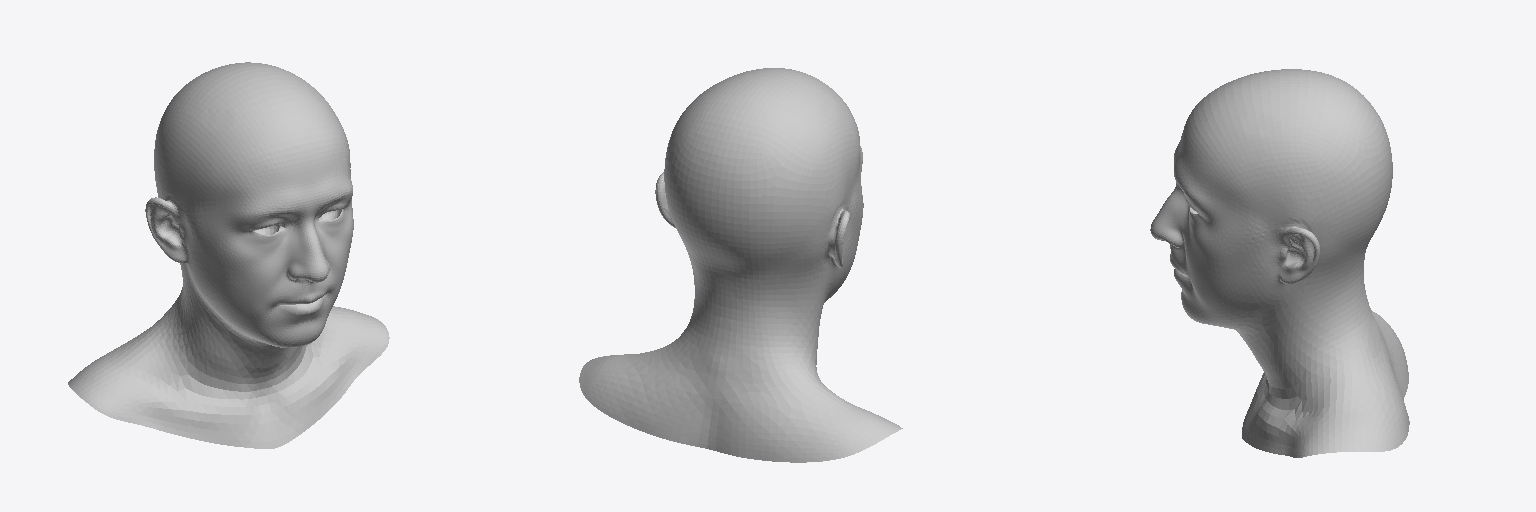
The model's file is 40_no_pose.obj.
3 renders of one model, left to right at view 1: azimuth 30°, elevation 25°; view 2: azimuth 150°, elevation 25°; view 3: azimuth 270°, elevation 25°, orthographic.
Size of the model in its own units: 2.95 by 3.31 by 2.18.